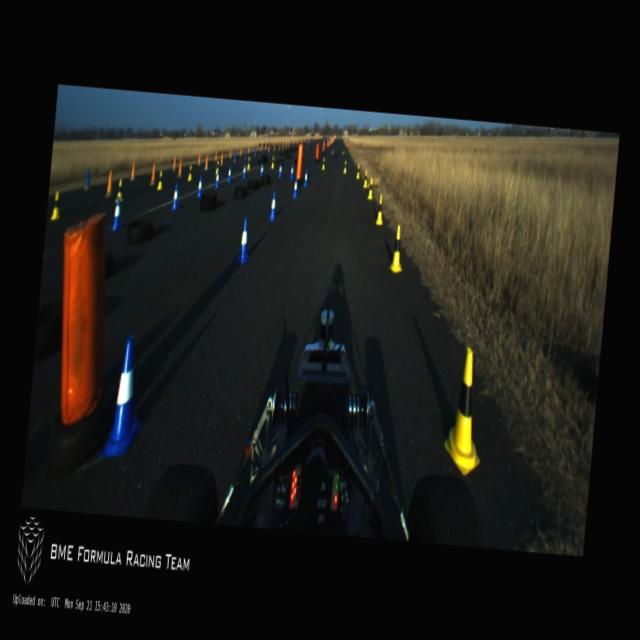blue_cone: (98, 336, 148, 464), (235, 218, 253, 266), (110, 198, 124, 232), (268, 190, 278, 222), (170, 184, 180, 212), (292, 174, 300, 199), (195, 175, 203, 200), (302, 165, 309, 188), (214, 168, 220, 190), (226, 164, 233, 182), (289, 164, 294, 180), (259, 162, 264, 178), (242, 162, 246, 179), (278, 162, 282, 178)
yellow_cone: (440, 344, 490, 478), (388, 223, 406, 273), (49, 190, 62, 222), (374, 193, 384, 226), (114, 178, 125, 203), (367, 177, 374, 200), (155, 170, 163, 190), (187, 163, 193, 182), (362, 170, 368, 188), (355, 162, 360, 178), (342, 158, 347, 174), (214, 160, 219, 176), (320, 157, 326, 170), (270, 156, 275, 170), (246, 156, 251, 170)
